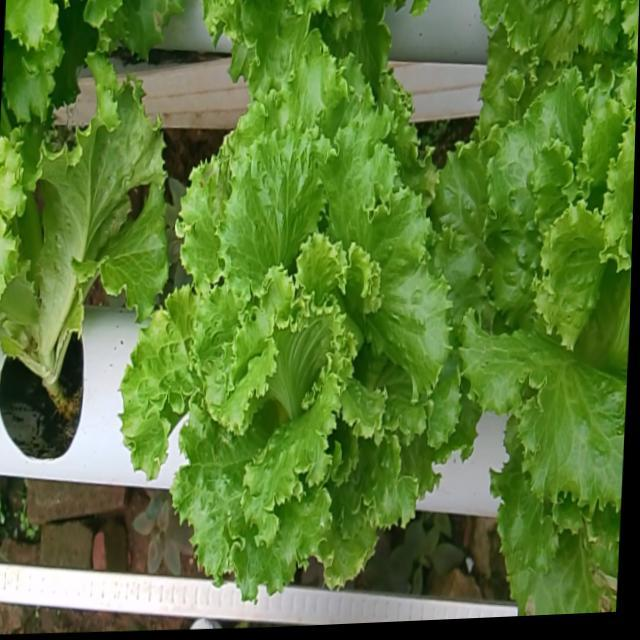Mature: (117, 59, 460, 614), (433, 73, 635, 526)
